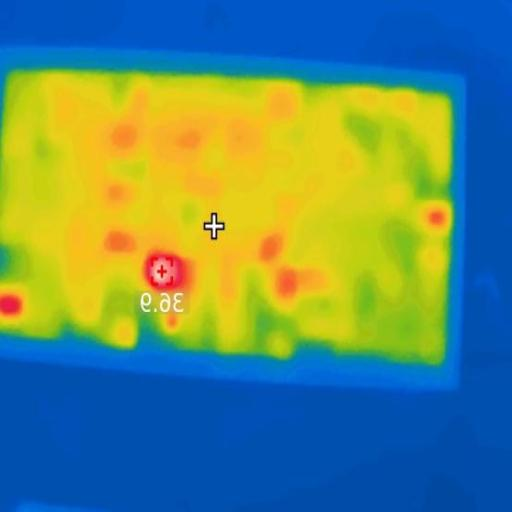hotspot: (142, 254, 188, 290), (274, 270, 296, 304), (0, 291, 23, 319)
